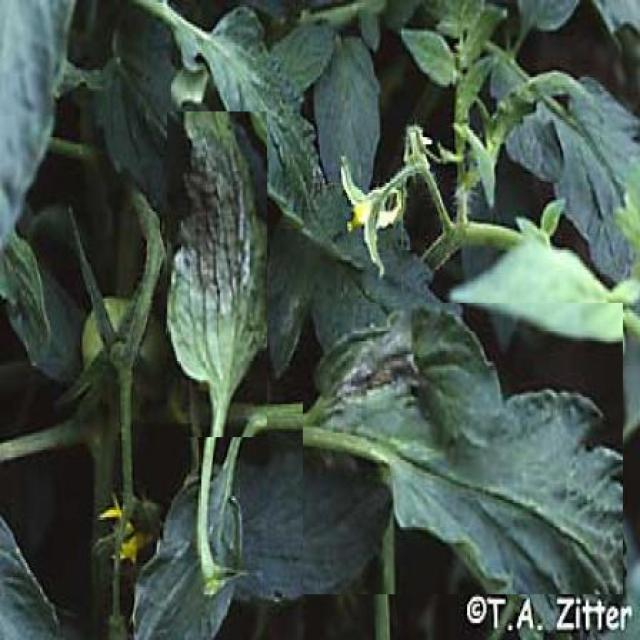Late Blight: (303, 303, 623, 594), (167, 111, 267, 438)
